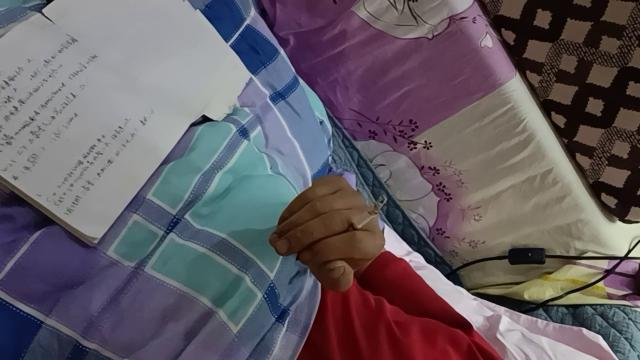Smoking: (340, 195, 388, 236)
